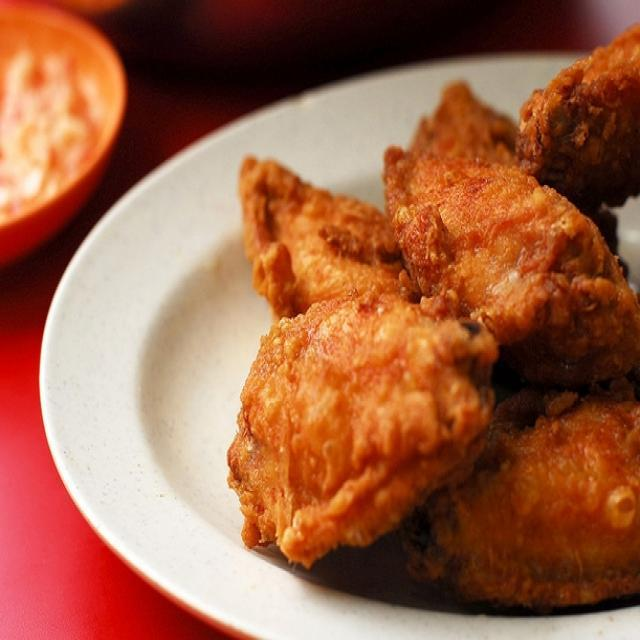Deep fried chicken wing: (228, 57, 614, 584)
